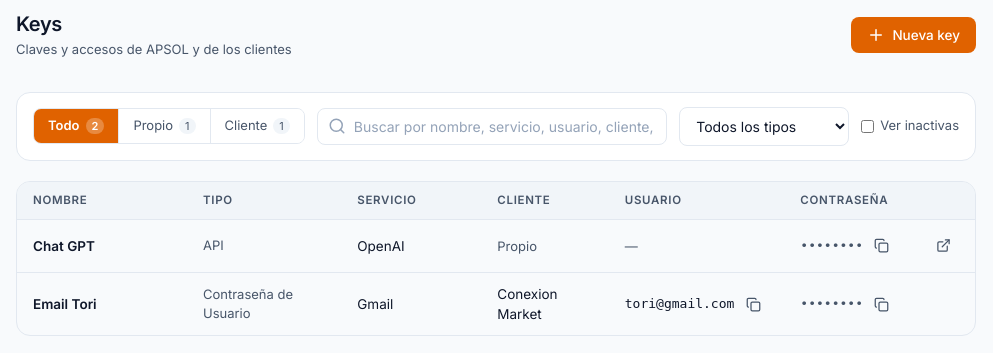
Scenario: Keys (lista) › copiar la contraseña desde la lista, sin mostrarla, y avisa "Copiado"
Step 1. Click the button named "Copiar contraseña" in the row of "Chat GPT" → [882, 246], box [867, 231, 897, 261]
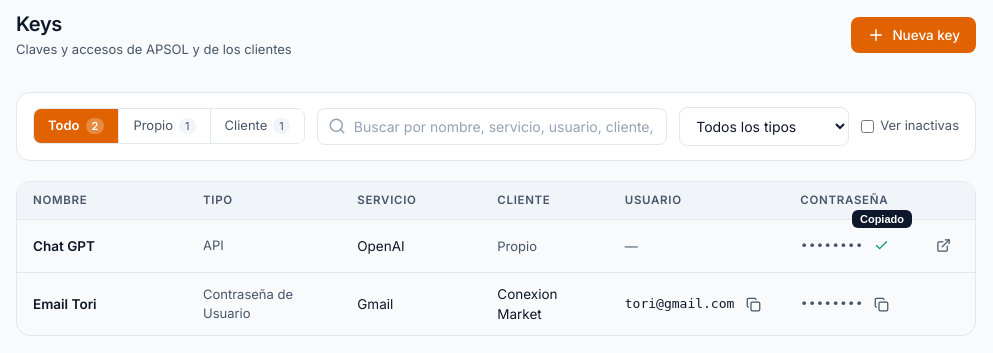
Result: the text "Copiado" is shown at [852, 210, 912, 228]
